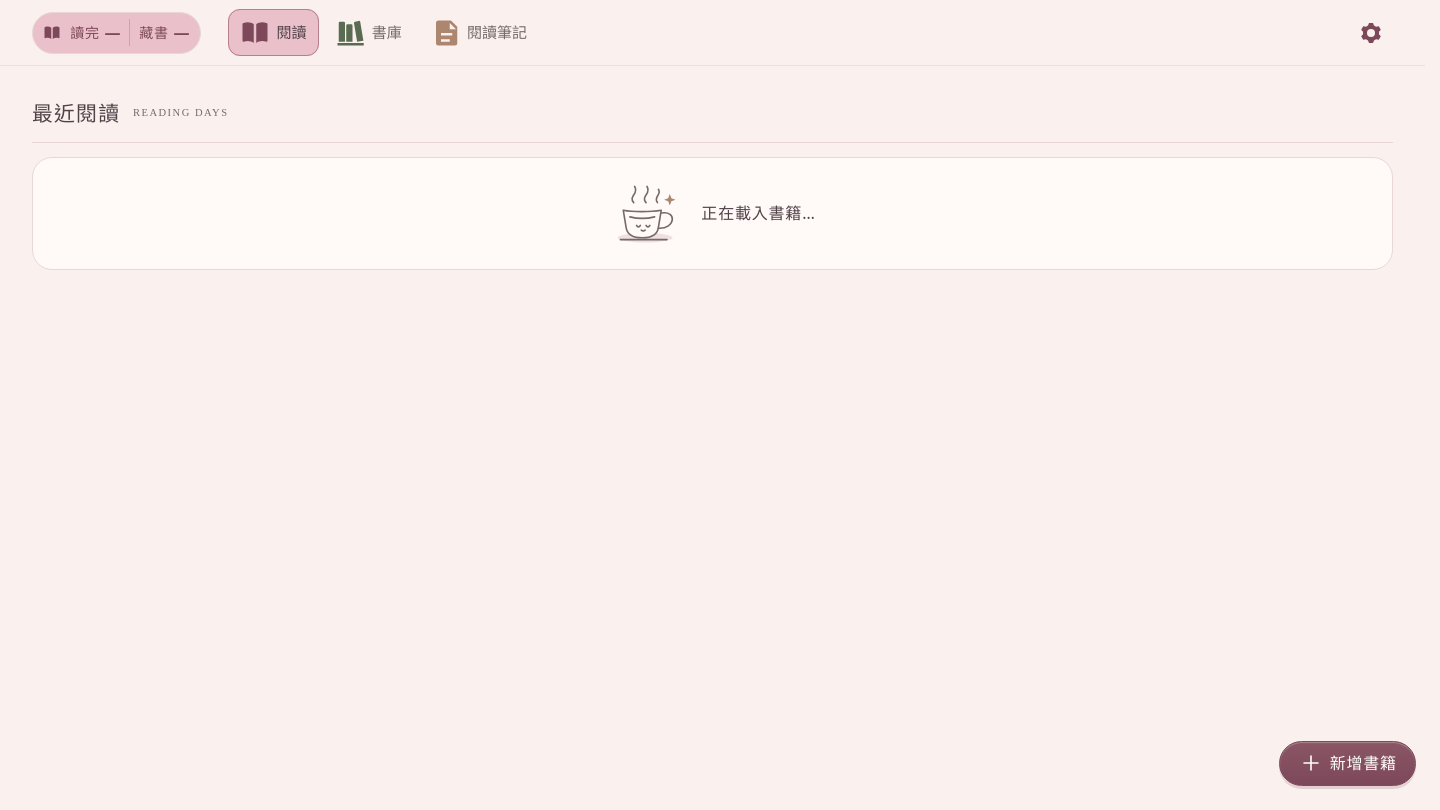
Scenario: library reading entries › keeps publication data separate from reading facts without writing while browsing
The width and height of the screenshot is (1440, 810).
Click the button "書庫": (369, 33) [323, 9, 414, 56]
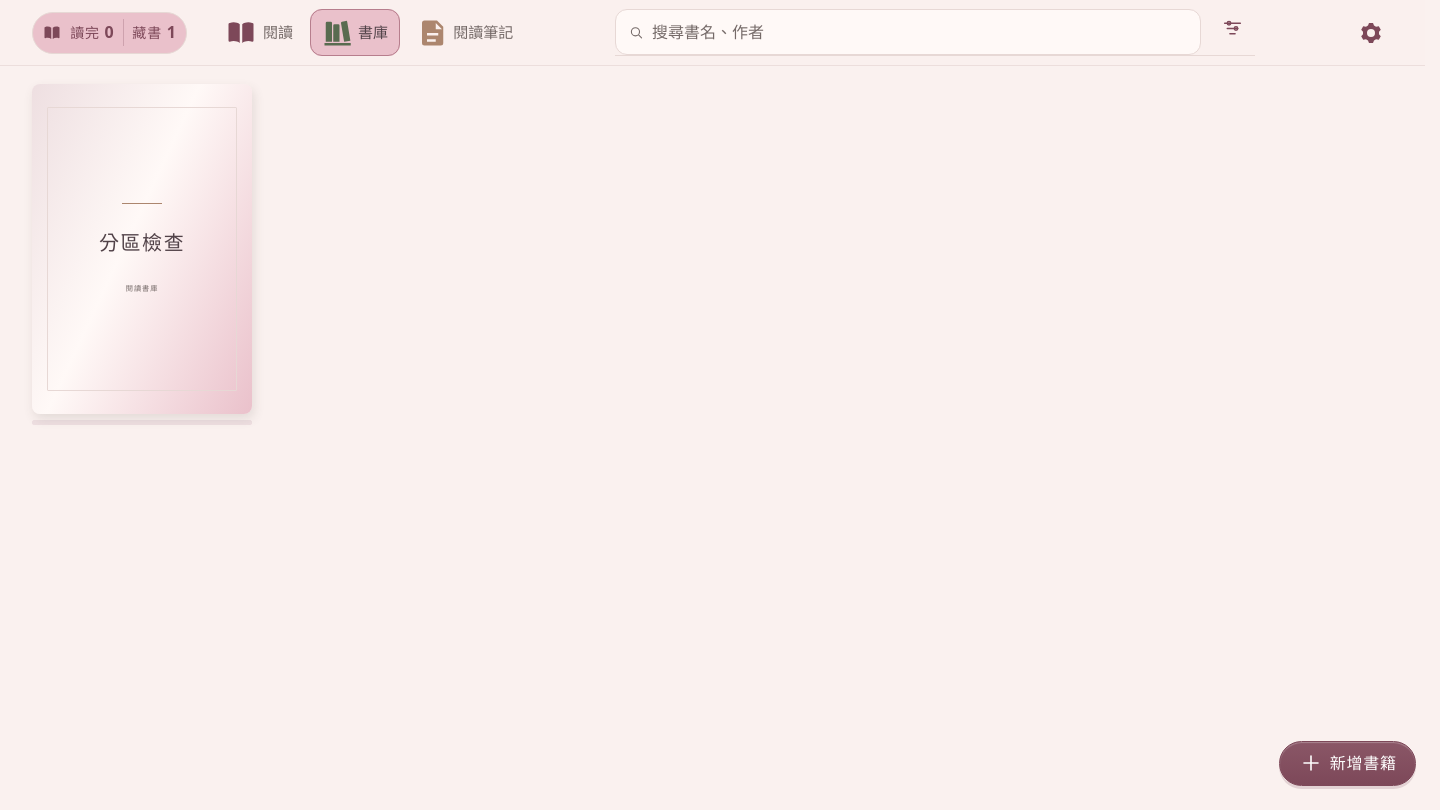
Click the button with aria-label "開啟《": (142, 249) [32, 84, 252, 414]
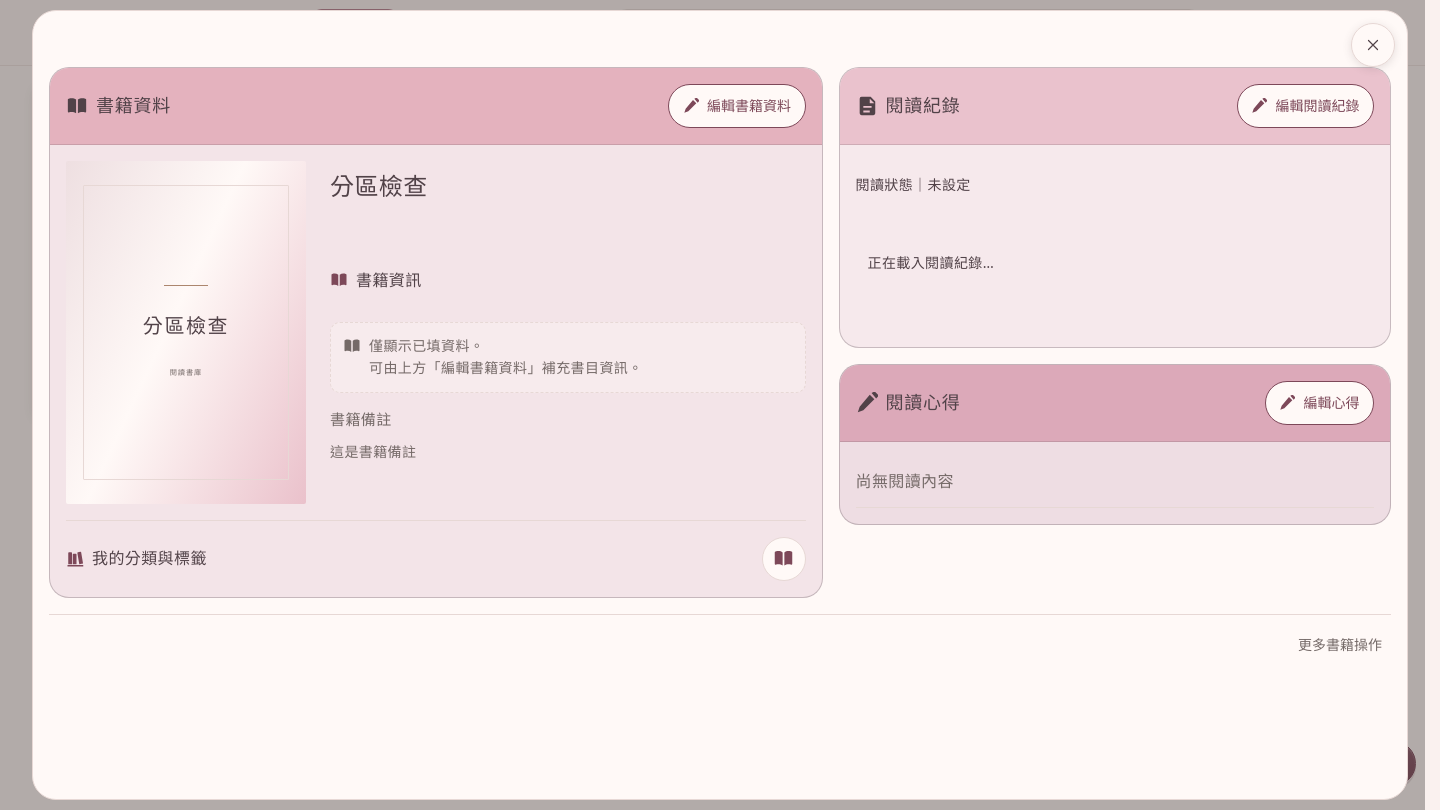
expect the button "短評" is not shown: met
expect the element named "單書閱讀統計" is shown: met, box [868, 253, 994, 272]
Click the button "編輯心得": (1319, 403) [1265, 381, 1374, 425]
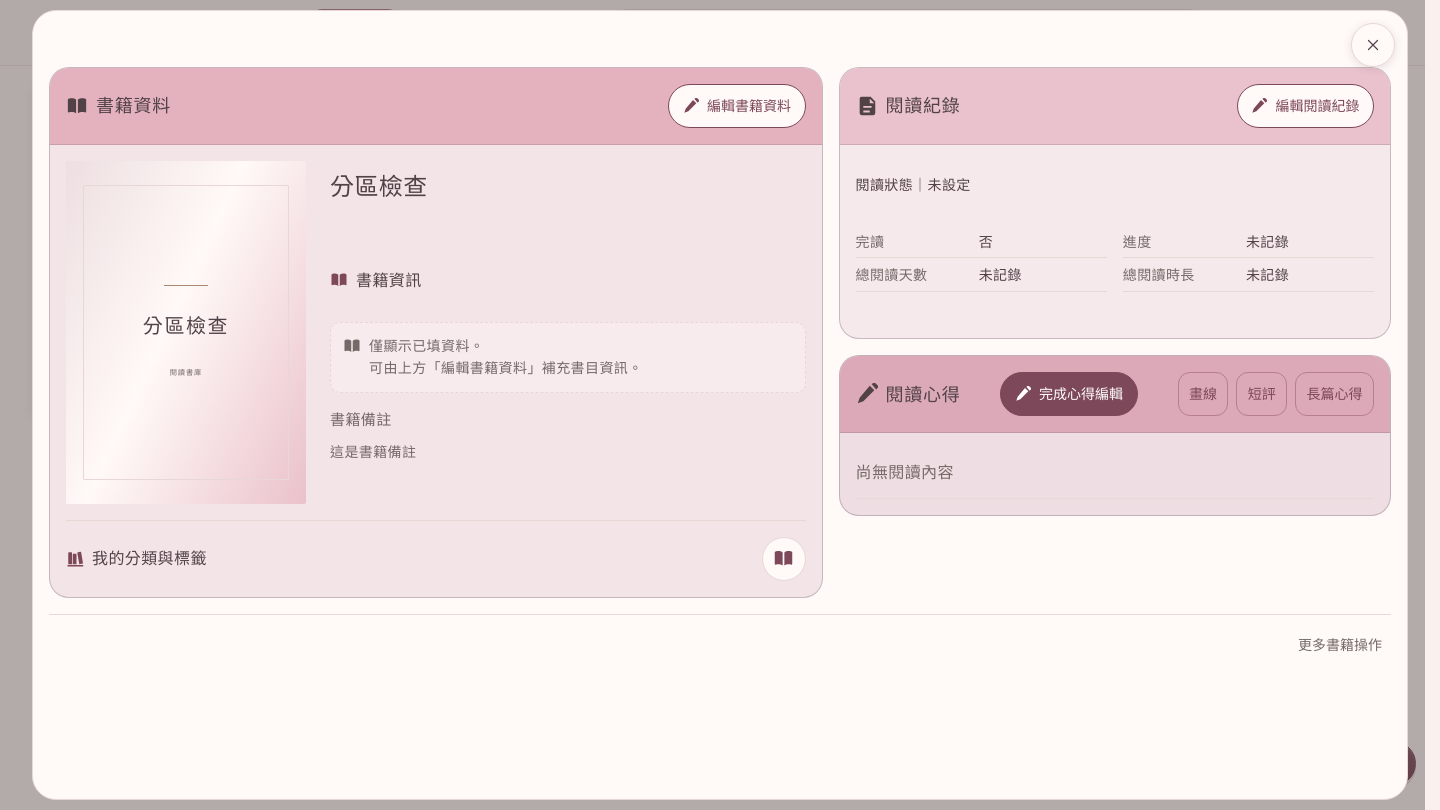
expect the link named "開啟相關連結：example.com" is shown: met, box [762, 537, 806, 581]
expect the text "這是書籍備註" is shown: met, box [330, 442, 416, 461]
expect the button "短評" is shown: met, box [1236, 372, 1287, 416]
